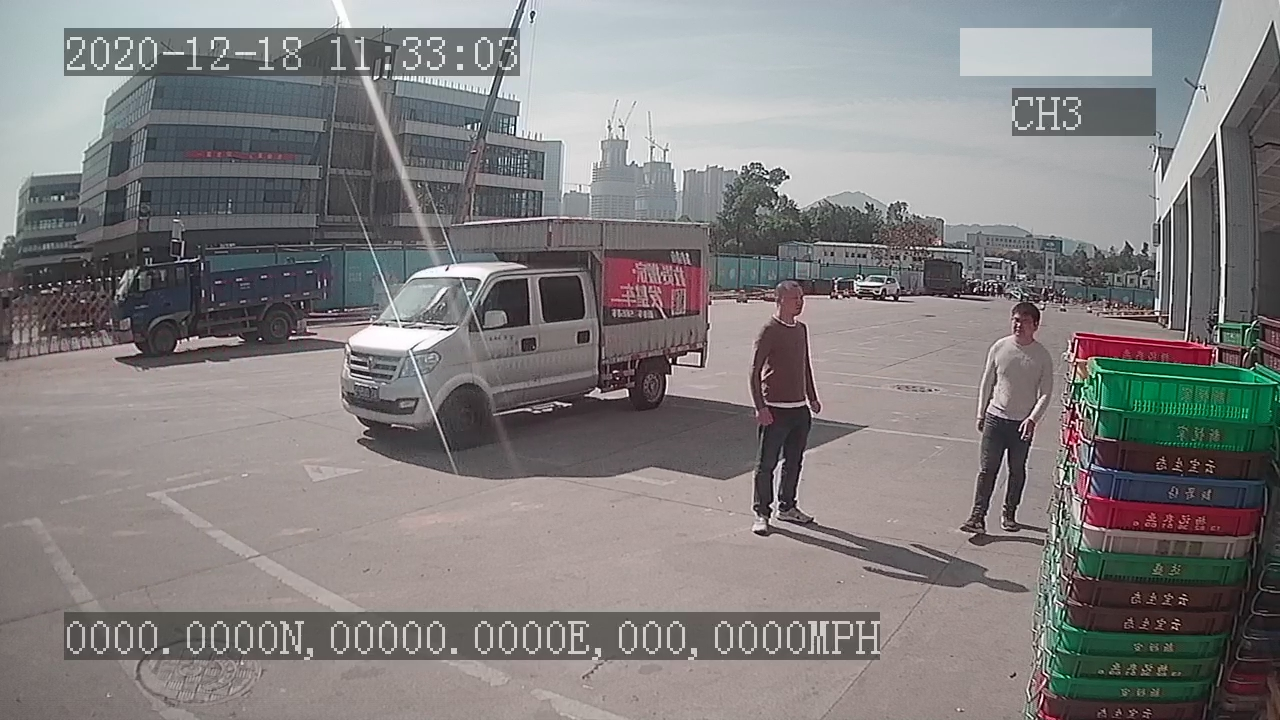person: (741, 273, 825, 540)
